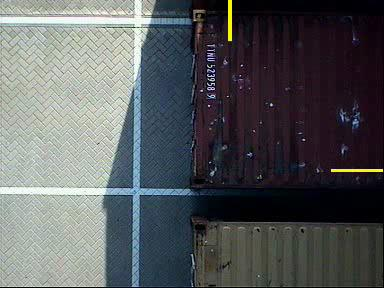groundmarker_2: (105, 16, 168, 50), (107, 162, 170, 196)
